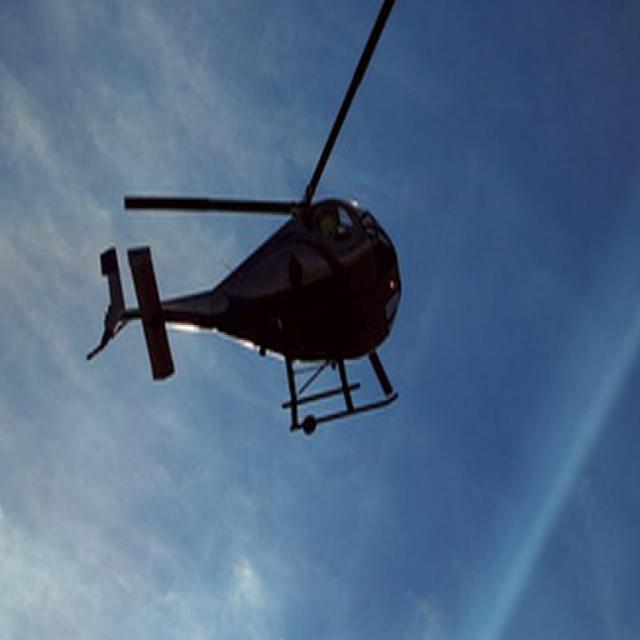helicopter: (88, 1, 419, 436)
